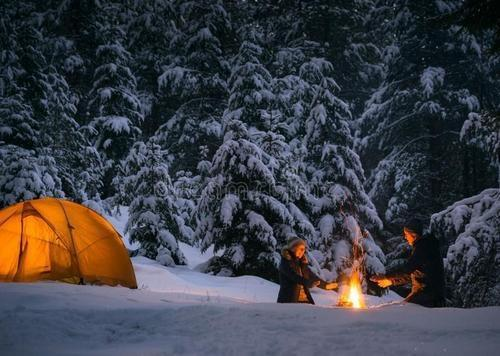fire: (326, 250, 384, 317)
